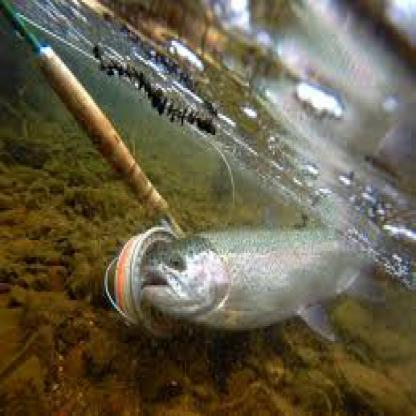fish: (142, 214, 398, 344)
